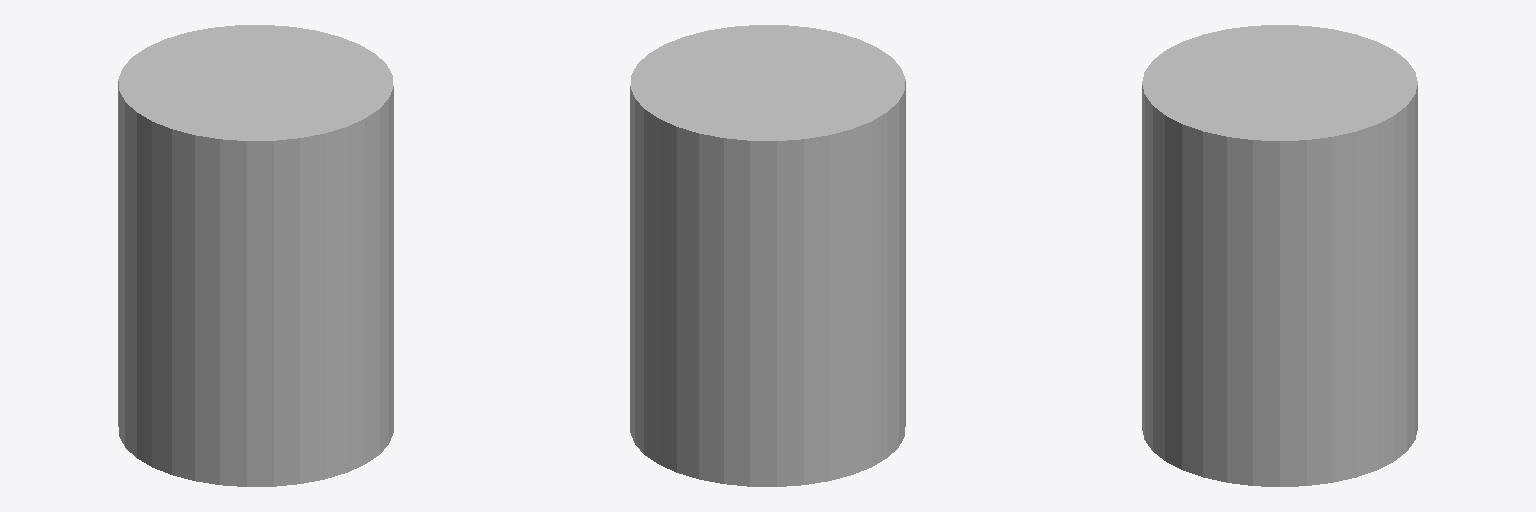
The model's file is barrel_1.obj.
3 renders of one model, left to right at view 1: azimuth 30°, elevation 25°; view 2: azimuth 150°, elevation 25°; view 3: azimuth 270°, elevation 25°, orthographic.
Visible parts, largest first — view 1: Barrel.001; view 2: Barrel.001; view 3: Barrel.001.
Part boxes in pixels (bbox=[...]): Barrel.001: bbox=[118, 25, 393, 486]; Barrel.001: bbox=[630, 25, 905, 486]; Barrel.001: bbox=[1142, 25, 1417, 486].
Bounding box in the file's own units: 0.4576 × 0.6332 × 0.4576.